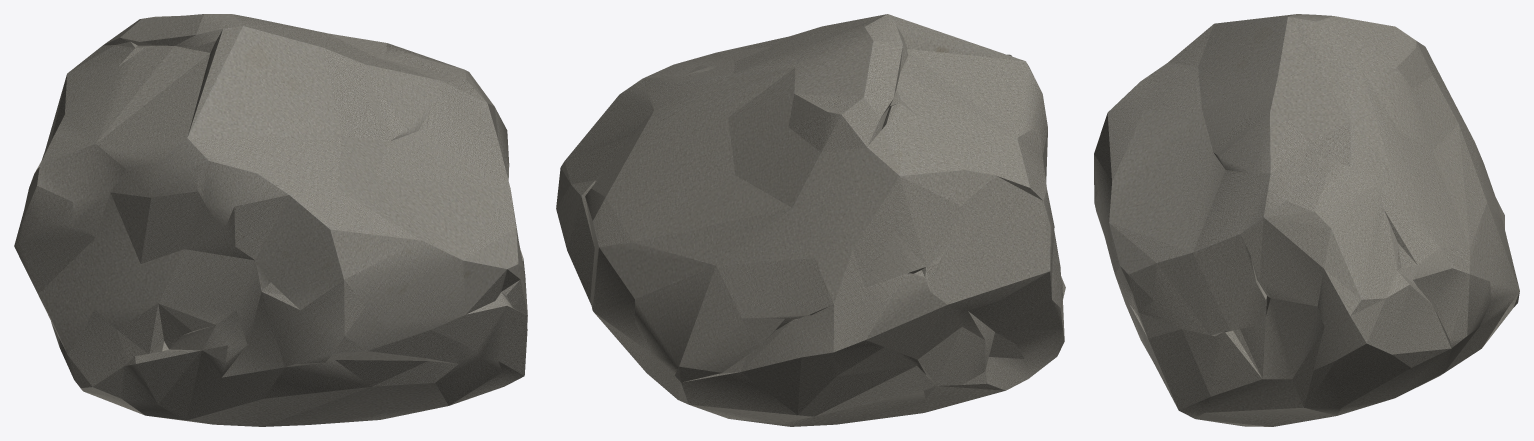
Rendered from pebble.glb.
3 views of the same model, side by side, from view 1: azimuth 30°, elevation 25°; view 2: azimuth 150°, elevation 25°; view 3: azimuth 270°, elevation 25° (orthographic). The views are drawn at different scales.
Size of the model in its own units: 1.9 by 1.46 by 1.65.
Materials: 1 (1 with a texture image).
